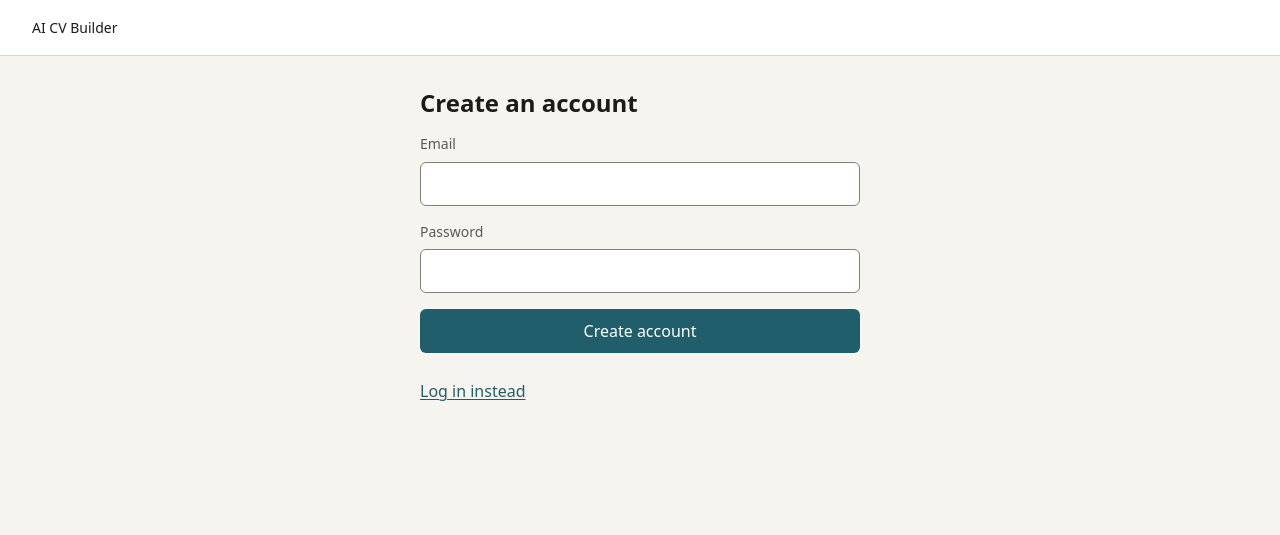
Test: sign-up form (C-001, CVB-6) › marks each field named in a 400 details array with its own inline message
The width and height of the screenshot is (1280, 535).
In the field labelled "Email": [640, 184] box [420,162,860,206], type "not-an-email"
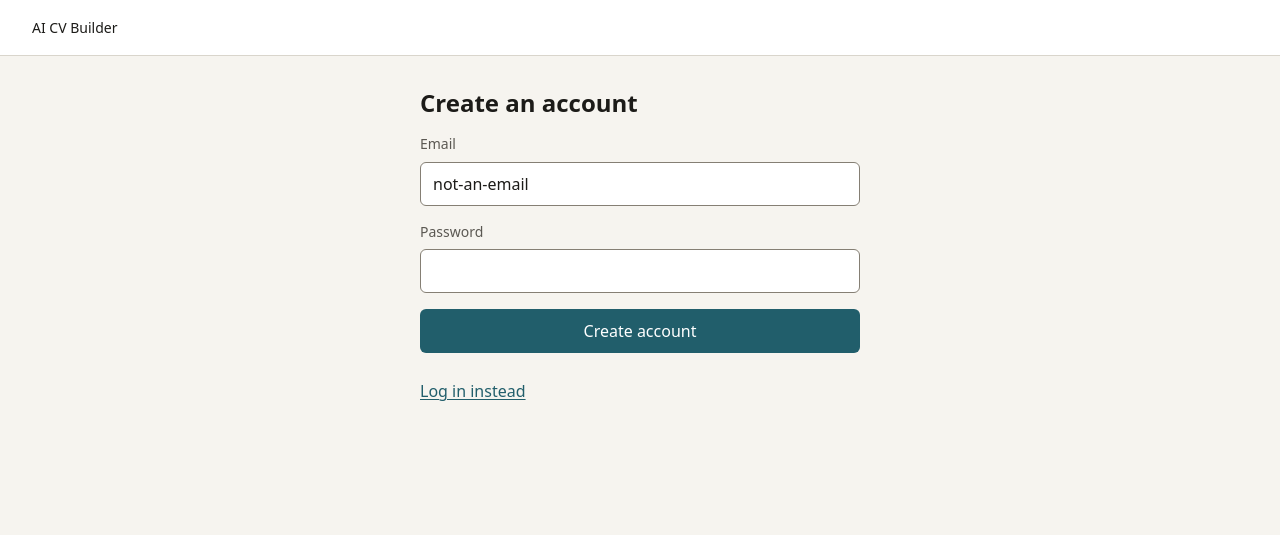
In the password field labelled "Password": [640, 271] box [420,249,860,293], type "short"
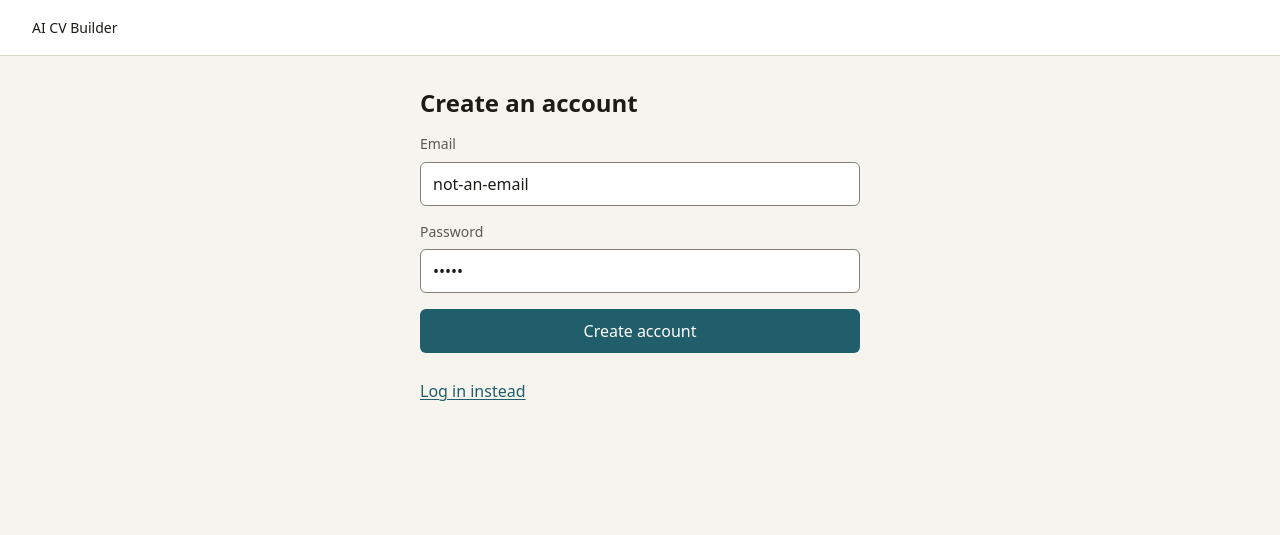
Submit the form labelled "Email Password Create account", box [420,134,860,353]
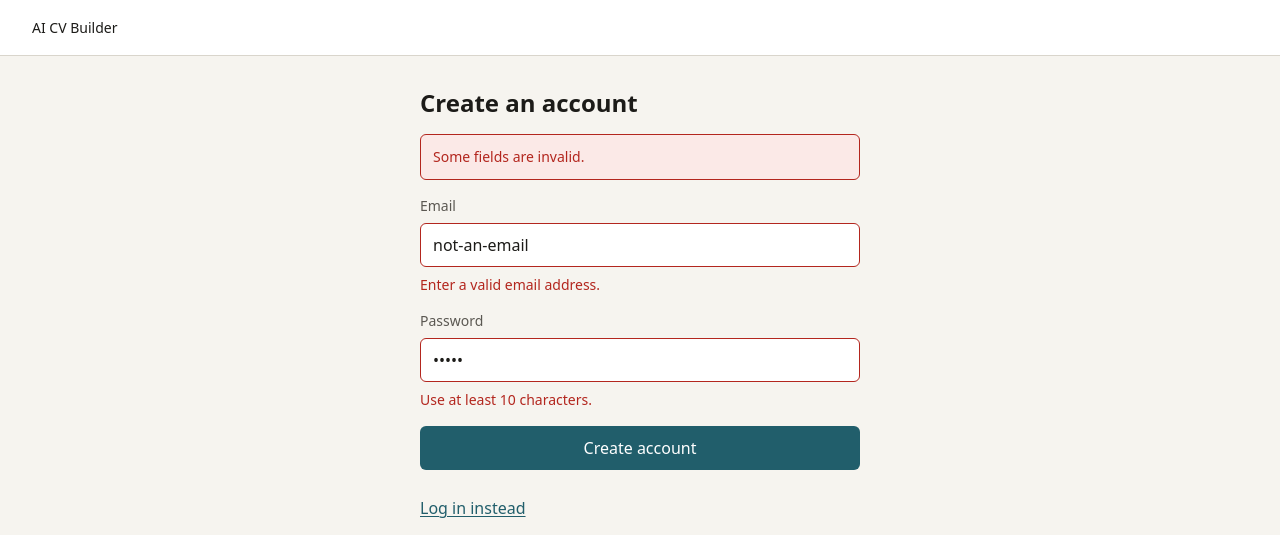
expect the text "Enter a valid email address." is shown: met, box [420,275,600,294]
expect the text "Use at least 10 characters." is shown: met, box [420,390,592,409]
